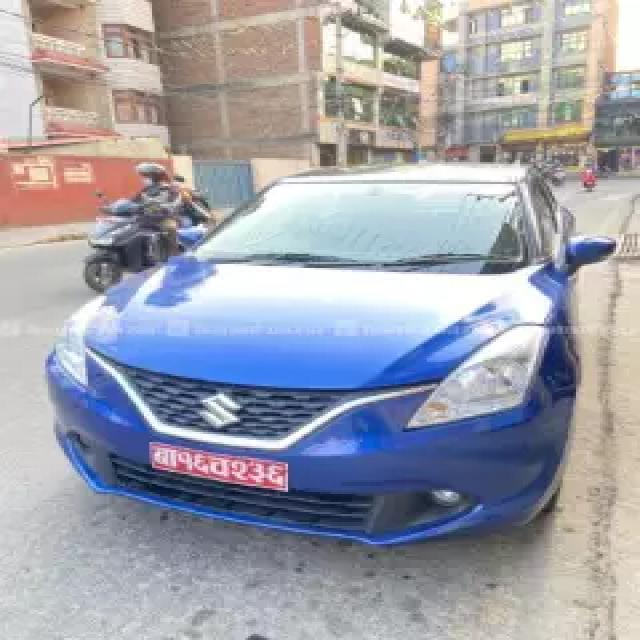License-plate: (149, 442, 287, 495)
